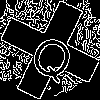Q: (25, 25, 82, 85)
